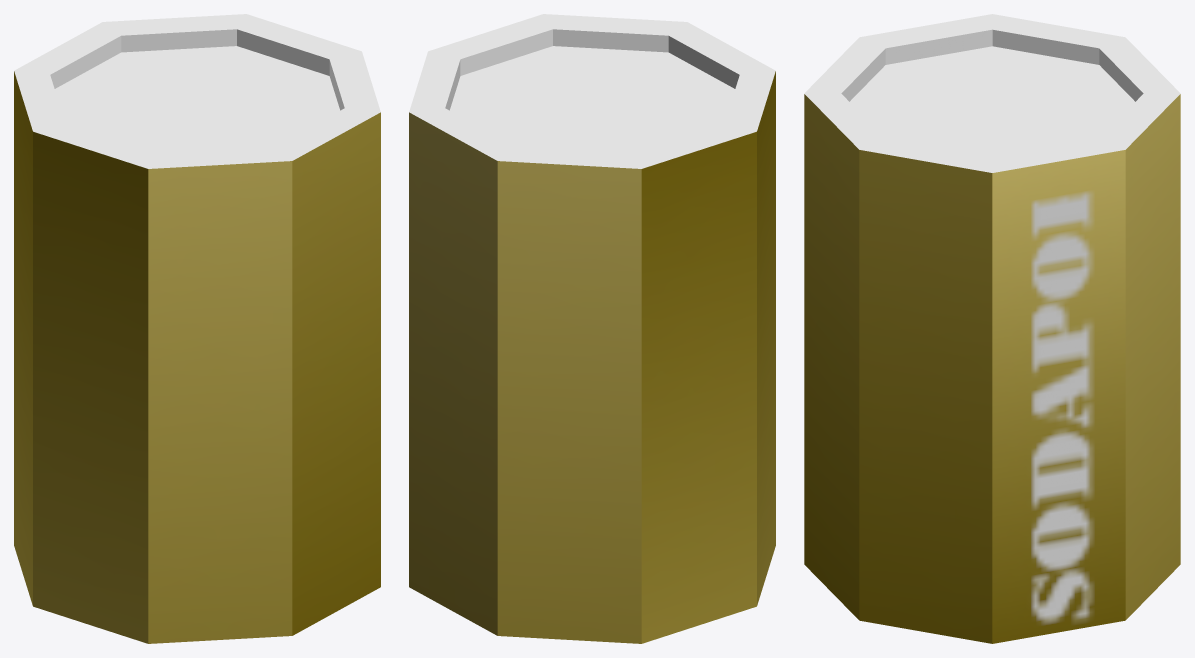
The model's file is Soda1.obj.
The picture shows the model from 3 angles, left to right: view 1: azimuth 30°, elevation 25°; view 2: azimuth 150°, elevation 25°; view 3: azimuth 270°, elevation 25°; orthographic projection.
Visible parts, largest first — view 1: Soda1_Cylinder.001; view 2: Soda1_Cylinder.001; view 3: Soda1_Cylinder.001.
Part boxes in pixels (<box>): Soda1_Cylinder.001: <box>14,14,380,643</box>; Soda1_Cylinder.001: <box>409,14,775,643</box>; Soda1_Cylinder.001: <box>804,14,1180,643</box>.
Size of the model in its own units: 0.1974 by 0.2724 by 0.1974.
